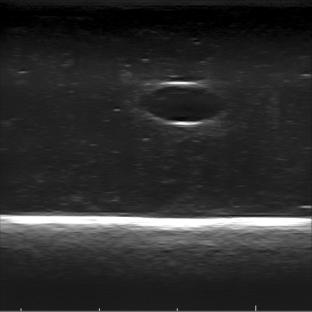vessel: (134, 81, 227, 126)
